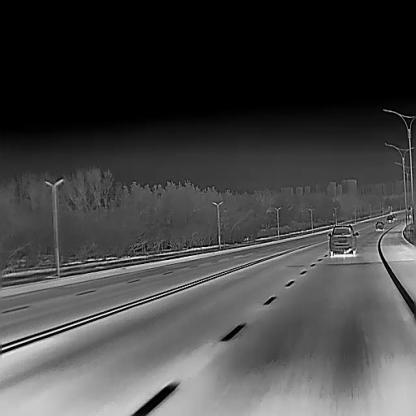car: (328, 224, 358, 255), (375, 221, 384, 230), (386, 214, 393, 222), (392, 214, 396, 219)
